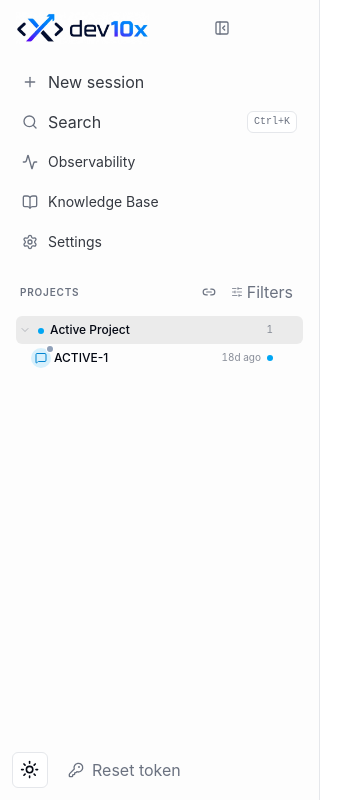
Scenario: ProjectSidebar › keeps the current project and activity accessible through collapsed rail tooltips
Expected: the list item with aria-label "Active Project," is shown, [14,316,305,372]
Click the button named "Collapse sidebar": {"x": 222, "y": 28} [206,12,238,44]
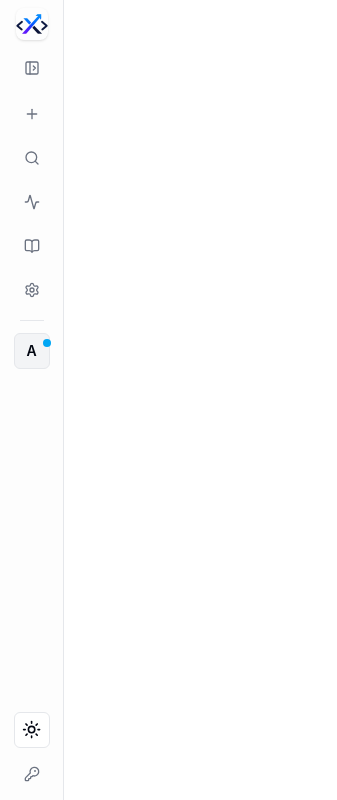
Hover over the link named "Active Project": {"x": 32, "y": 351} [14,333,50,369]
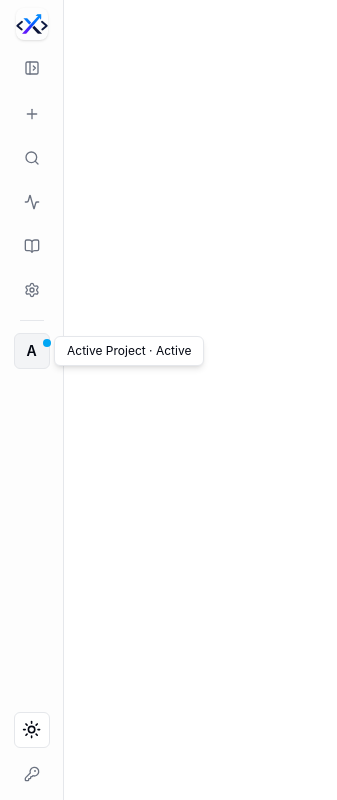
Now the tooltip shows "Active Project", box [67,343,191,358]
Now the tooltip reads "Active Project · Active", box [67,343,191,358]
